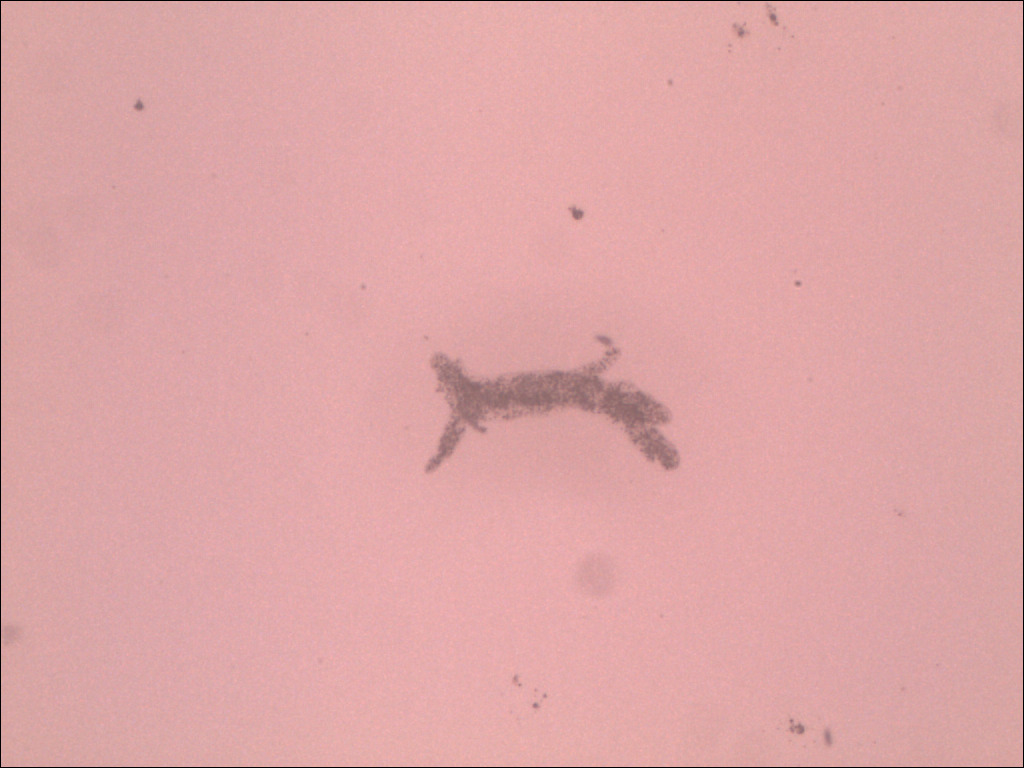amoeba: (414, 325, 700, 489)
